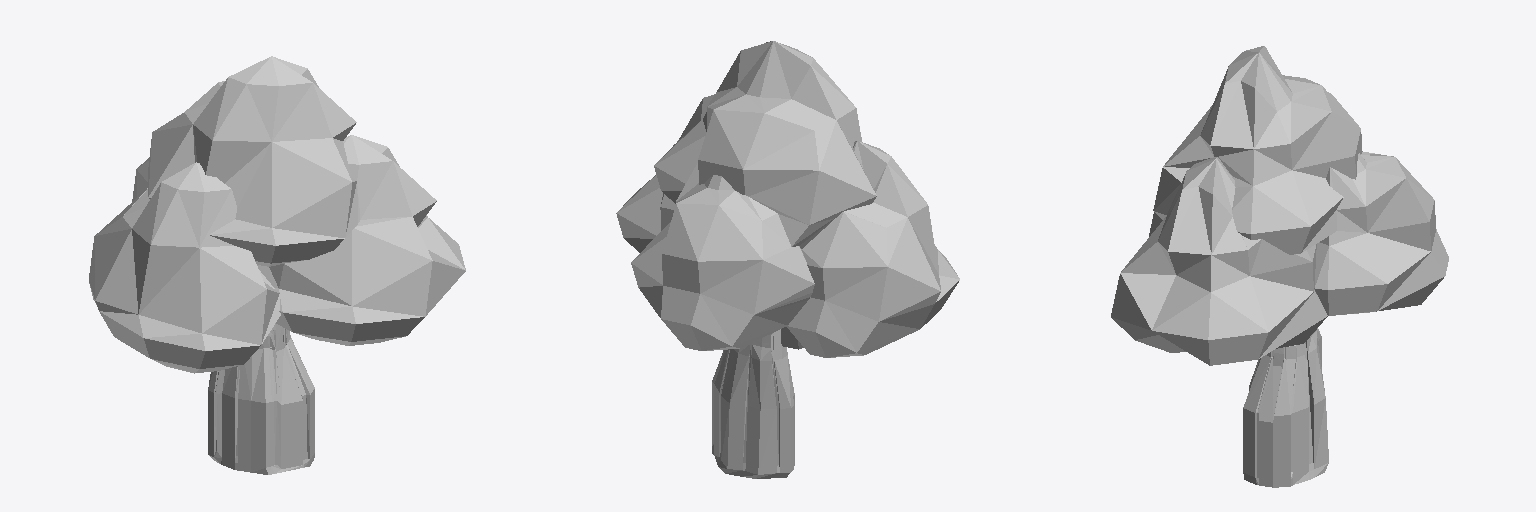
The model's file is Tree2.obj.
3 views of the same model, side by side, from view 1: azimuth 30°, elevation 25°; view 2: azimuth 150°, elevation 25°; view 3: azimuth 270°, elevation 25° (orthographic).
Parts seen in each view (by area): view 1: polySurface12; view 2: polySurface12; view 3: polySurface12.
Part boxes in pixels (bbox=[...]): polySurface12: bbox=[89, 56, 465, 474]; polySurface12: bbox=[616, 41, 959, 478]; polySurface12: bbox=[1111, 46, 1448, 487].
Bounding box in the file's own units: 10.27 × 12.12 × 9.02.